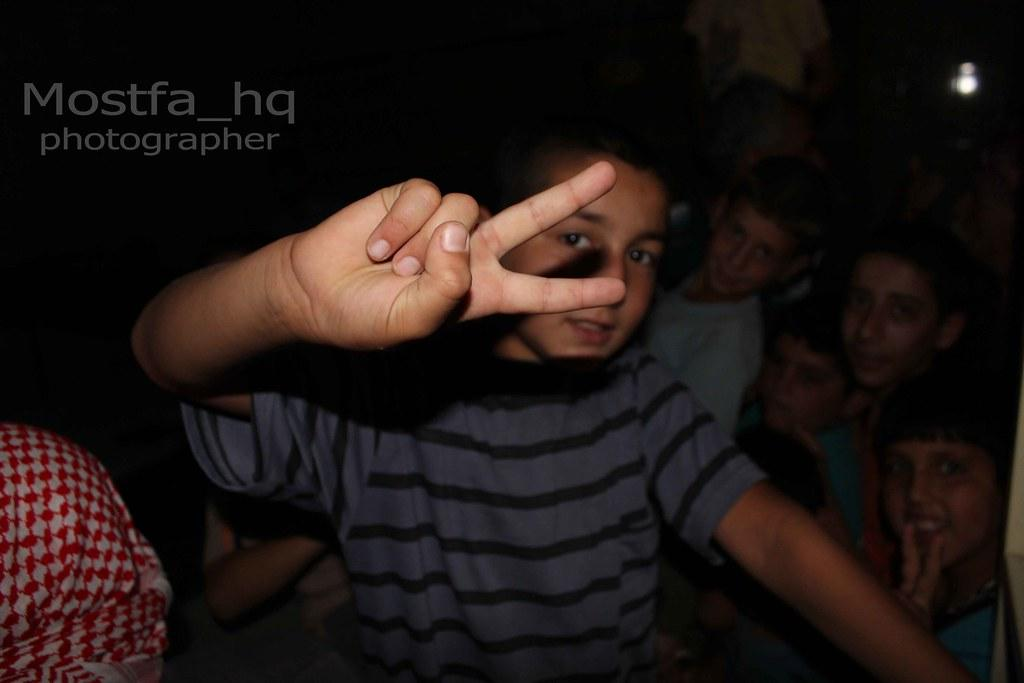peace_sign: (282, 142, 638, 359)
